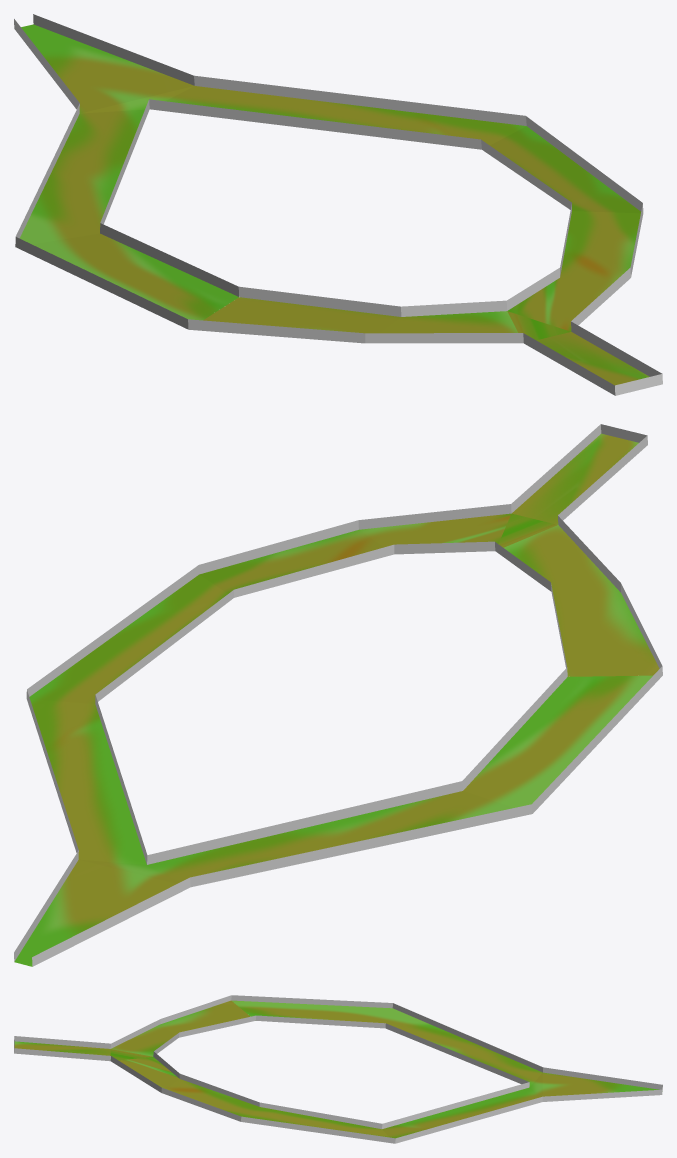
The model's file is Stage_Short_2.0.fbx.
3 views of the same model, one above another, from view 1: azimuth 30°, elevation 25°; view 2: azimuth 150°, elevation 25°; view 3: azimuth 270°, elevation 25° (orthographic). The views are drawn at different scales.
Visible parts, largest first — view 1: ground, wall; view 2: ground, wall; view 3: ground, wall.
Part boxes in pixels (x1,y1,x2,y2): ground: (19,24,649,385); wall: (14,14,662,395); ground: (14,433,659,966); wall: (14,424,662,966); ground: (14,1000,659,1138); wall: (14,995,662,1143).
Size of the model in its own units: 64670 by 11557 by 134065.
Materials: 2 (1 with a texture image).
